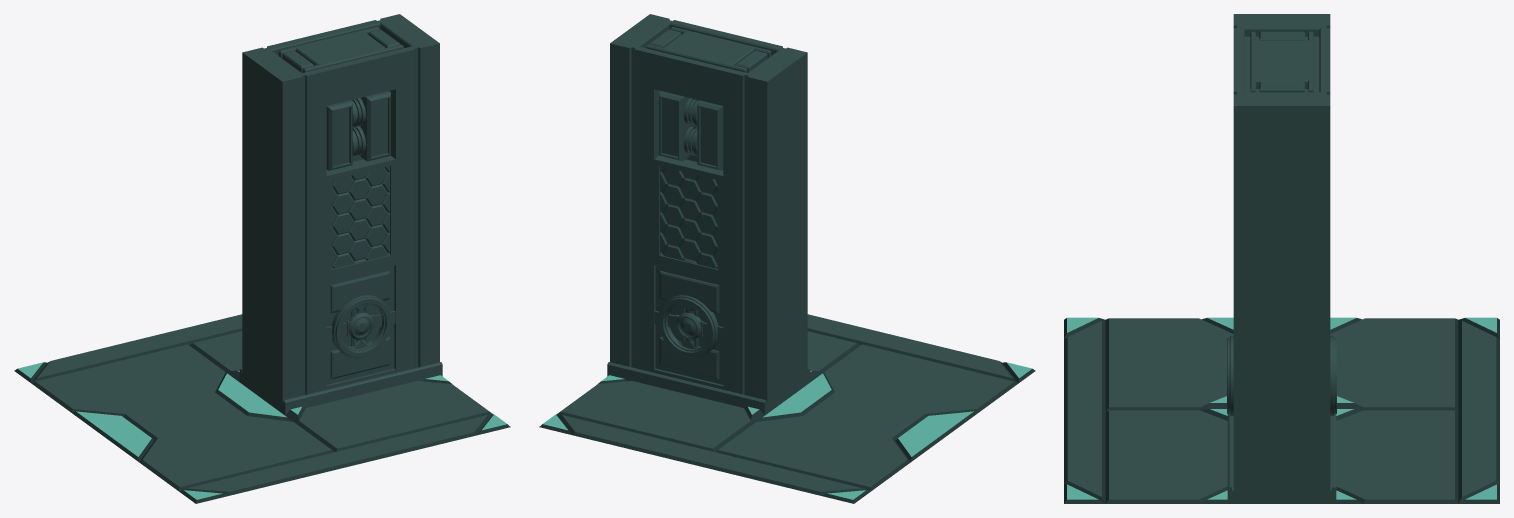
The model's file is Walls_Stump_Var01.fbx.
The picture shows the model from 3 angles, left to right: view 1: azimuth 30°, elevation 25°; view 2: azimuth 150°, elevation 25°; view 3: azimuth 270°, elevation 25°; orthographic projection. The views are drawn at different scales.
Visible parts, largest first — view 1: Walls_Stump_Var01; view 2: Walls_Stump_Var01; view 3: Walls_Stump_Var01.
Part boxes in pixels (x1,y1,x2,y2): Walls_Stump_Var01: (14, 14, 510, 503); Walls_Stump_Var01: (539, 14, 1035, 503); Walls_Stump_Var01: (1064, 14, 1499, 503).
Bounding box in the file's own units: 600 × 604 × 600.
